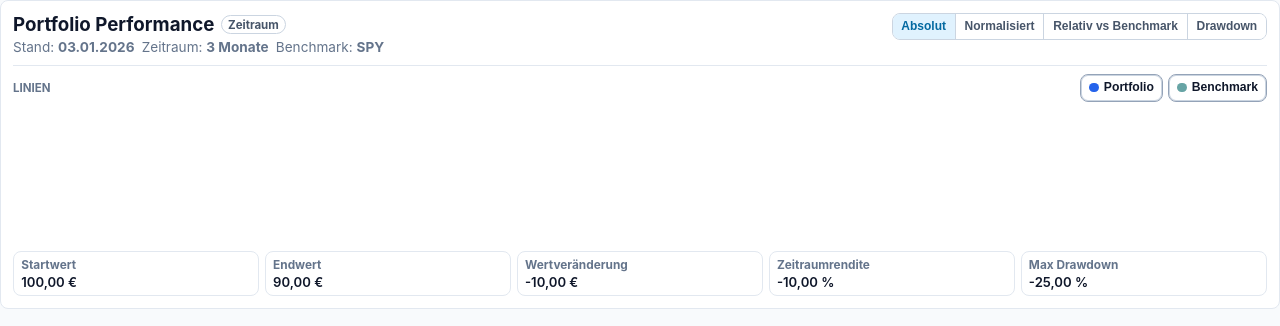
PortfolioPerformancePanel › can switch from absolute values to normalized index values
Click the button "Normalisiert" at (1000, 26), box [956,14,1044,39]
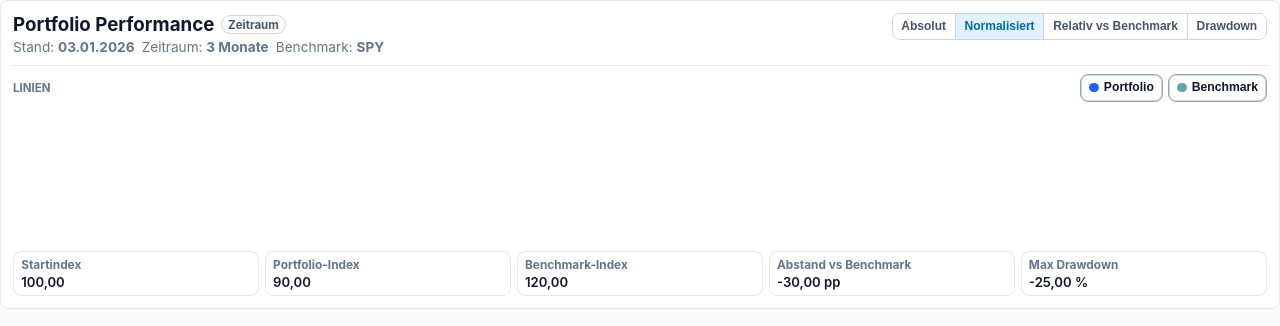
Expected: the text "Portfolio-Index" is shown, [273,258,360,272]
Expected: the text "Abstand vs Benchmark" is shown, [777,258,911,272]
